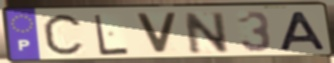3: (235, 10, 273, 54)
A: (278, 10, 329, 52)
C: (40, 11, 87, 60)
L: (92, 13, 131, 57)
N: (181, 10, 232, 55)
V: (133, 12, 180, 56)
